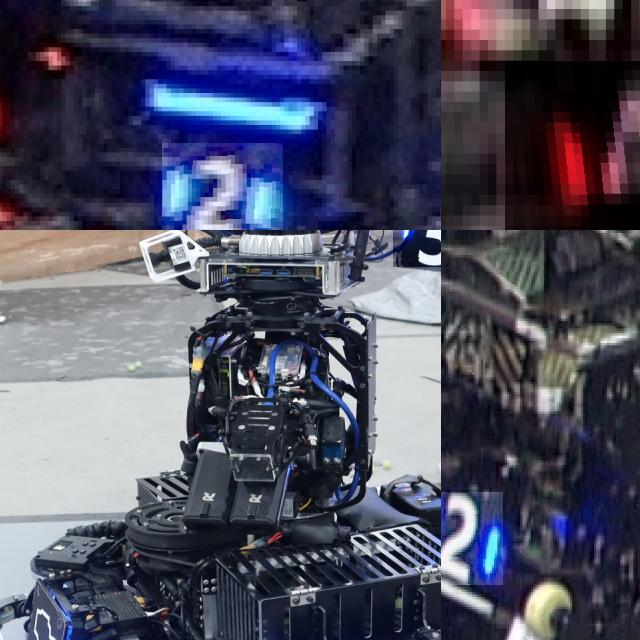B2: (162, 143, 284, 230), (441, 492, 502, 585)
B3: (393, 230, 441, 267)
Bs: (16, 593, 76, 640)
R4: (505, 60, 640, 230)
